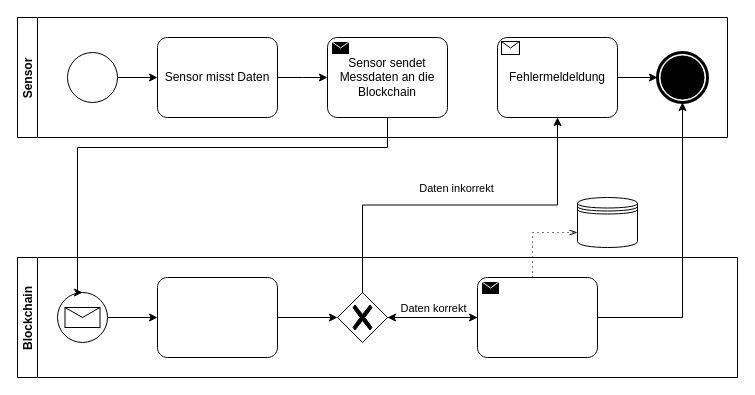
The diagram is 755 pixels wide and 395 high, and some of its shapes have lost their labels. The shapes that lost their labels are listed below. From the top down, each one's centre as x and y in pixels, then its label:
(217,317): Blockchain prüft die Messdaten
(537,317): Schreibe Messdaten auf den Ledger
